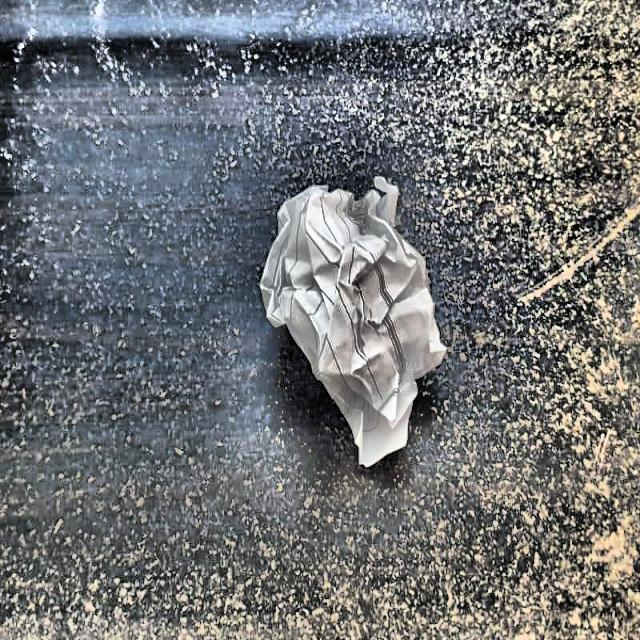paper: (262, 172, 448, 462)
